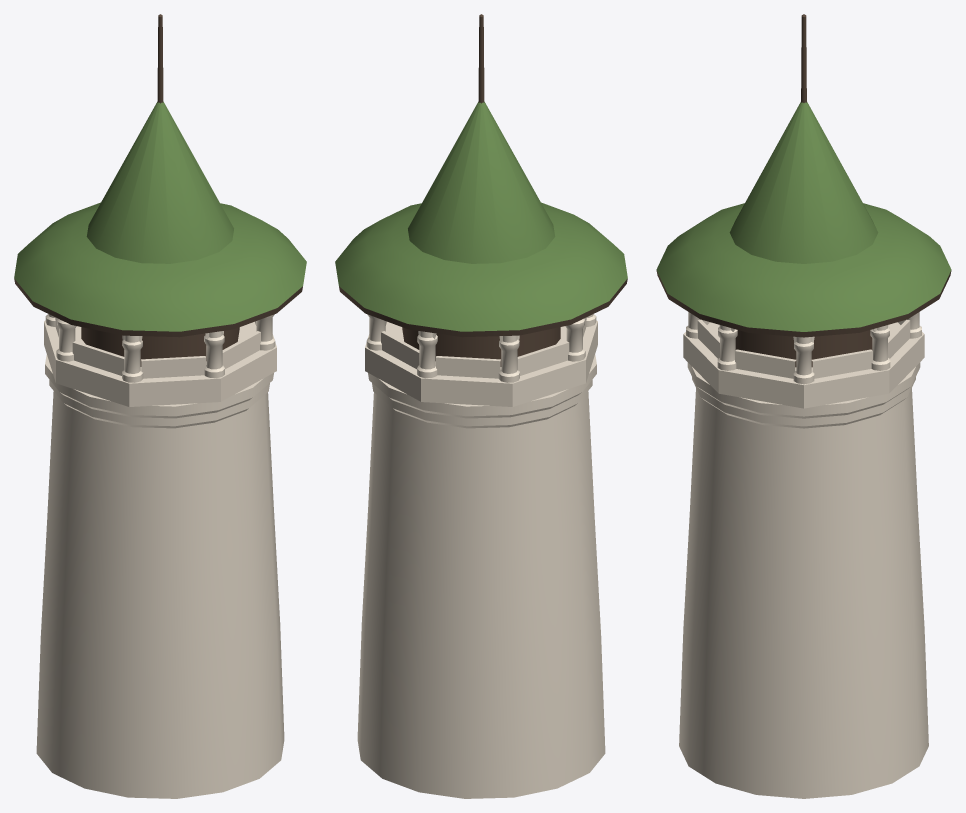
File: msp-witchs-hat-water-tower.glb
3 renders of one model, left to right at view 1: azimuth 30°, elevation 25°; view 2: azimuth 150°, elevation 25°; view 3: azimuth 270°, elevation 25°, orthographic.
Parts seen in each view (by area): view 1: msp-witchs-hat-water-tower; view 2: msp-witchs-hat-water-tower; view 3: msp-witchs-hat-water-tower.
Boxes of the visible parts, x1,y1,x2,y2 form: msp-witchs-hat-water-tower: (14,14,306,798); msp-witchs-hat-water-tower: (335,14,627,798); msp-witchs-hat-water-tower: (656,14,951,798).
Size of the model in its own units: 13.7 by 37.5 by 13.7.
